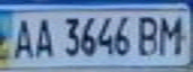3: (57, 14, 81, 58)
4: (97, 12, 118, 57)
6: (112, 12, 136, 57), (78, 14, 100, 57)
A: (6, 15, 36, 61), (30, 14, 57, 61)
M: (154, 12, 190, 56)
P: (136, 12, 163, 56)
